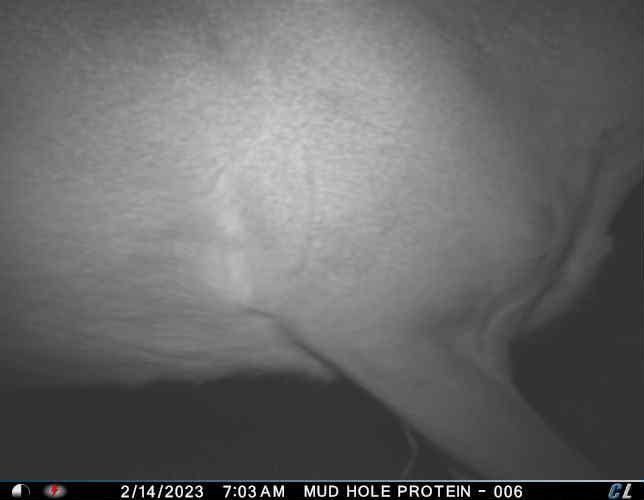Deer: (1, 0, 644, 479)
